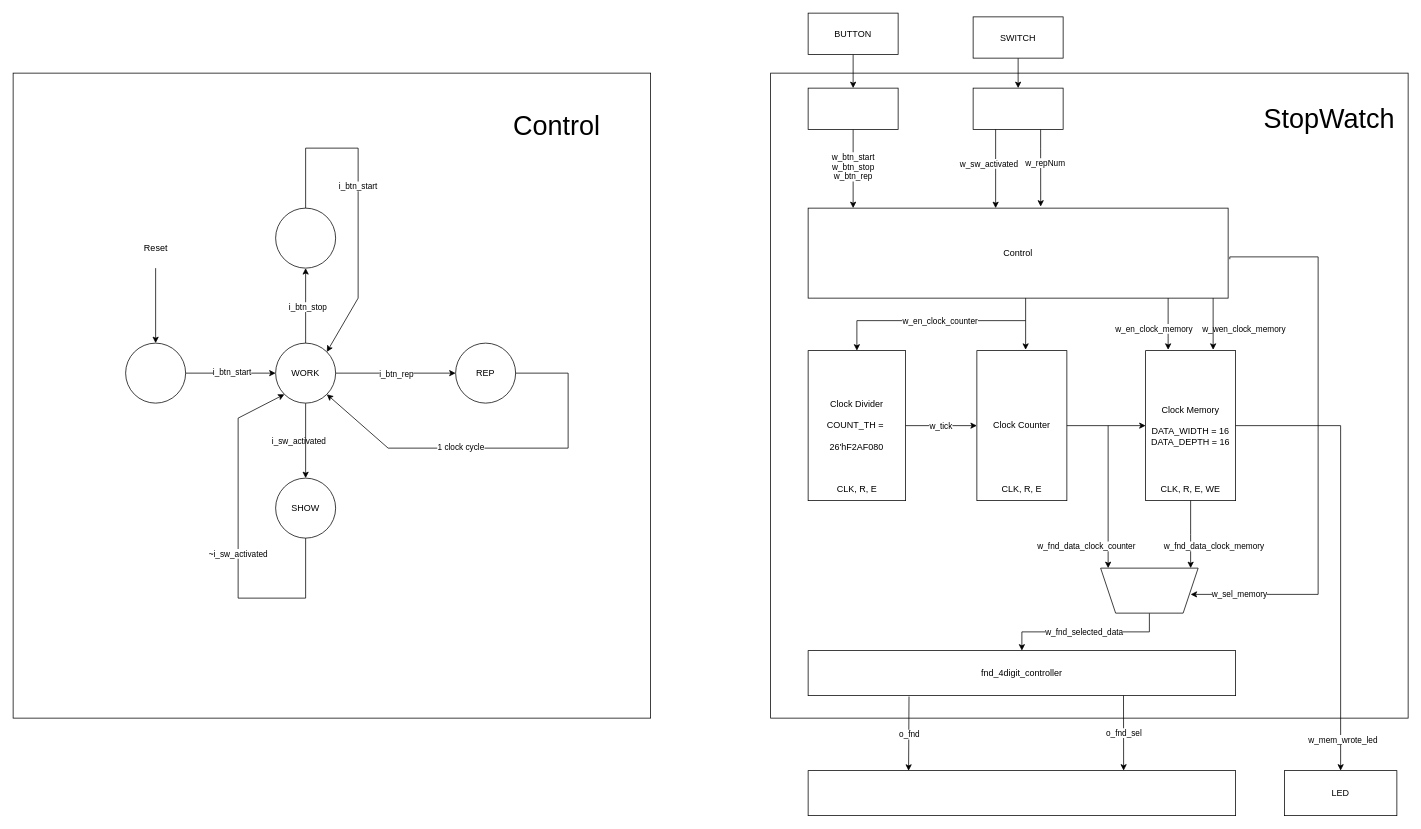
Image size: 1421x829. Some labels were removed from this diagram. Each missing label, with the centre of its shape:
ButtonInterface: (852,108)
IDLE: (155,372)
SEGMENT DISPLAY: (1021,793)
STOP: (305,237)
SwitchInterface: (1017,108)
